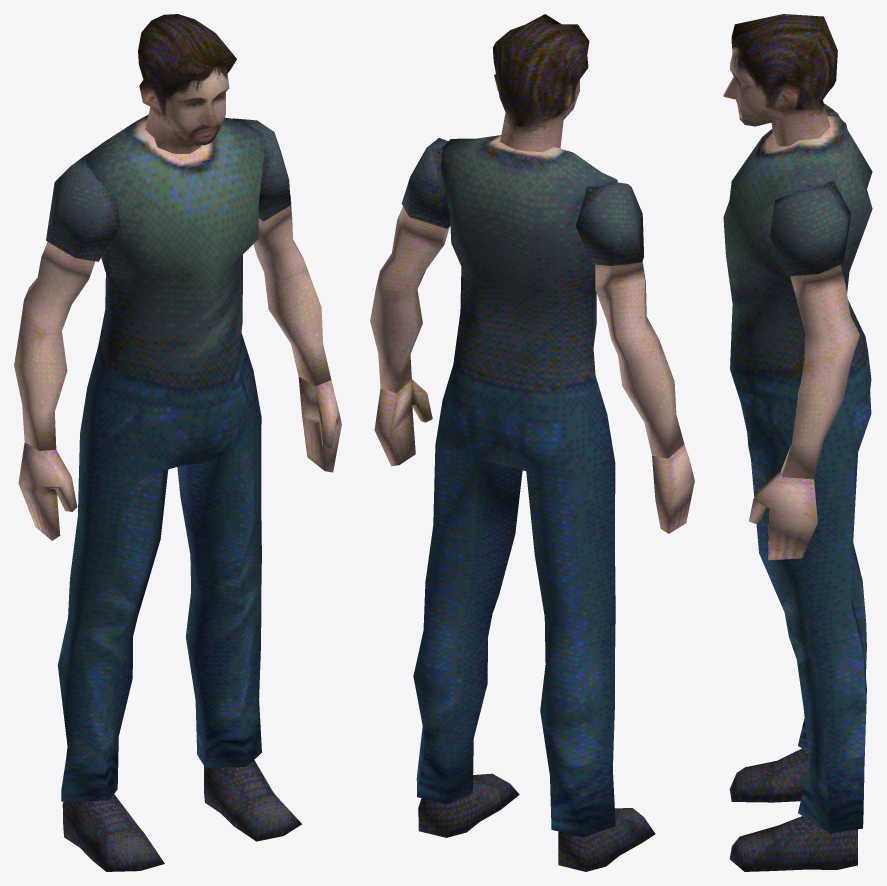
File: enemigo.fbx
3 views of the same model, side by side, from view 1: azimuth 30°, elevation 25°; view 2: azimuth 150°, elevation 25°; view 3: azimuth 270°, elevation 25° (orthographic).
Visible parts, largest first — view 1: male_player; view 2: male_player; view 3: male_player.
Boxes of the visible parts, x1,y1,x2,y2 form: male_player: [14, 14, 341, 871]; male_player: [370, 14, 694, 871]; male_player: [723, 14, 872, 871].
Bounding box in the file's own units: 74.27 × 191 × 32.02.
1 material, 1 textured.
